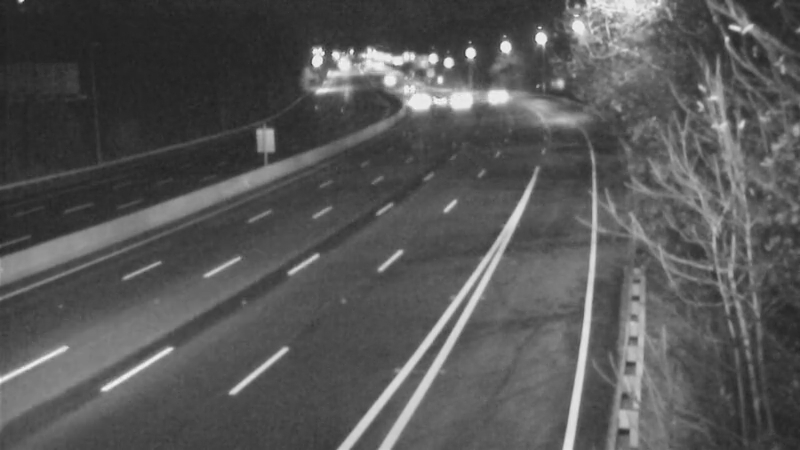vehicle: (366, 52, 416, 102), (380, 61, 430, 111), (471, 69, 521, 119), (434, 74, 484, 124), (411, 77, 461, 127), (390, 75, 440, 125)
